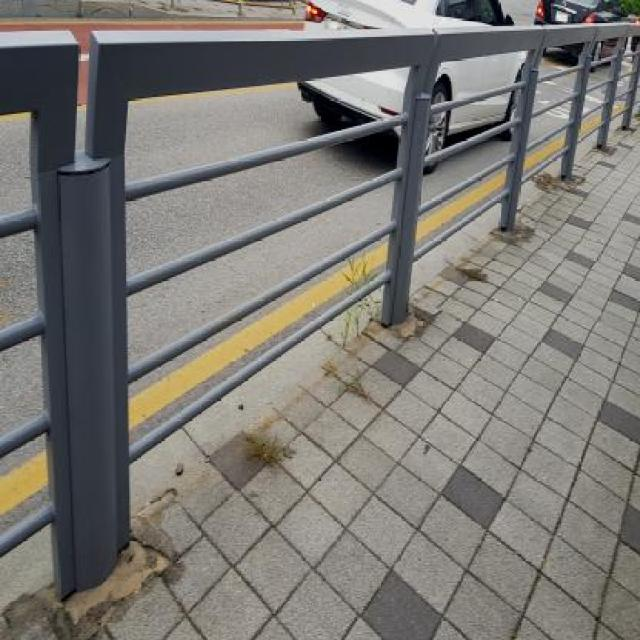fence: (0, 15, 326, 640), (351, 12, 638, 306)
